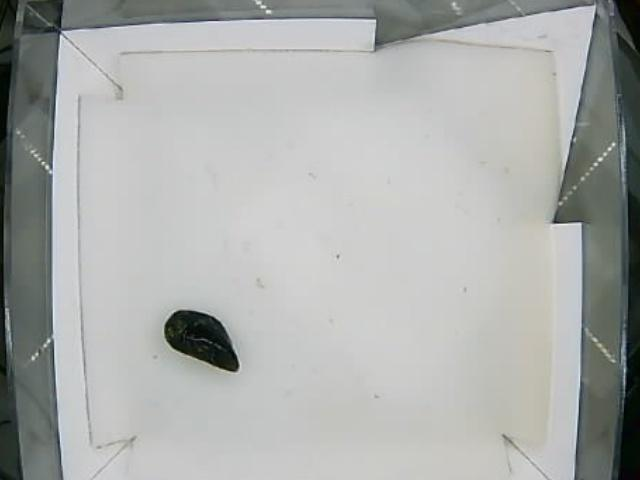Shell: (163, 310, 241, 371)
